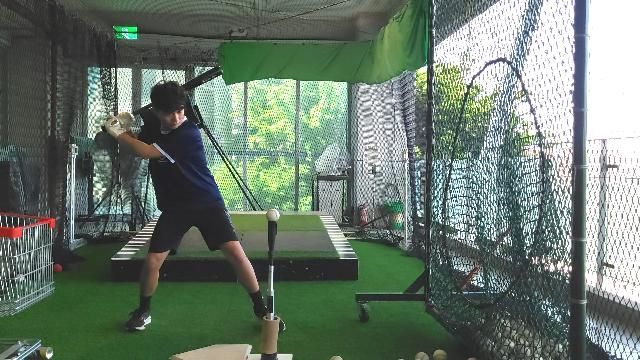ball: (266, 208, 282, 224)
bat: (134, 65, 222, 115)
